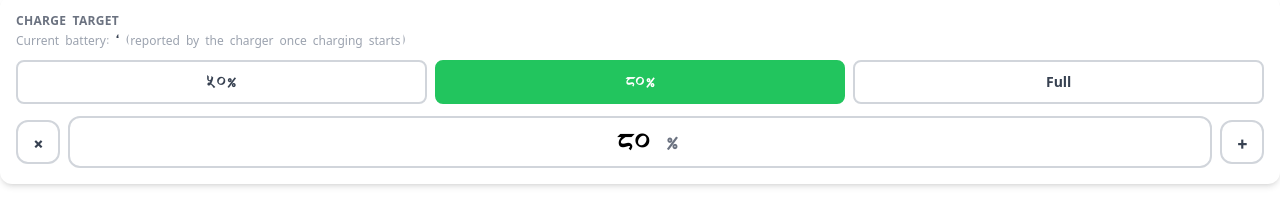
Test: ChargeTargetCard › steps by 5 with the − and + buttons
Click the button named "Increase target by 5%". click: (1242, 142)
box: left=1220, top=120, right=1264, bottom=164
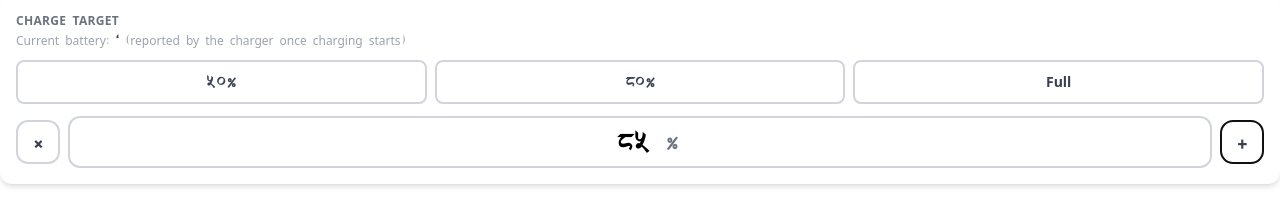
Now the number field named "Target battery %" holds "85", box left=601, top=126, right=665, bottom=158
Click the button named "Decrease target by 5%". click: (38, 142)
box: left=16, top=120, right=60, bottom=164
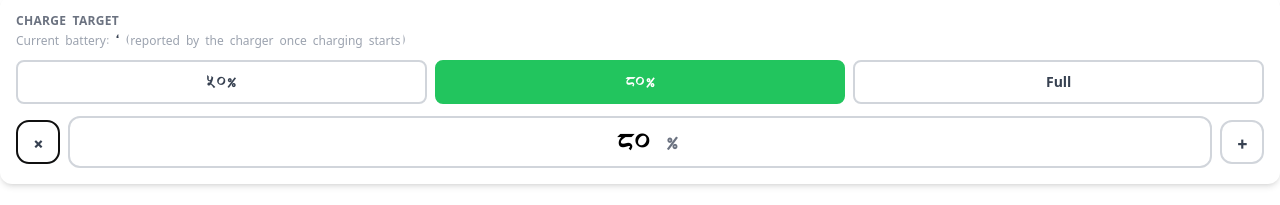
Click the button named "Decrease target by 5%". click: (38, 142)
box: left=16, top=120, right=60, bottom=164
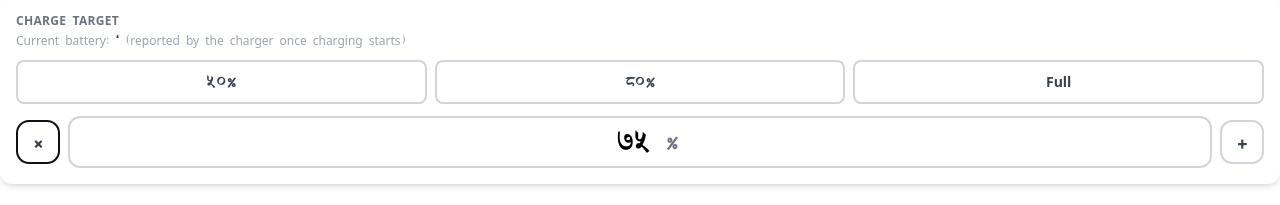
Now the number field named "Target battery %" holds "75", box left=601, top=126, right=665, bottom=158
